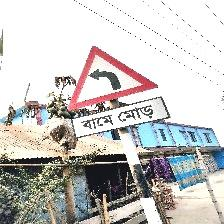Left-Turn: (63, 46, 166, 138)
